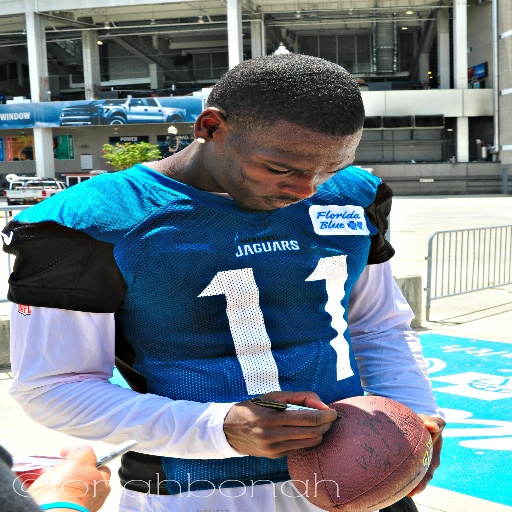hand: (214, 397, 353, 469), (24, 441, 112, 511), (408, 413, 448, 498)
